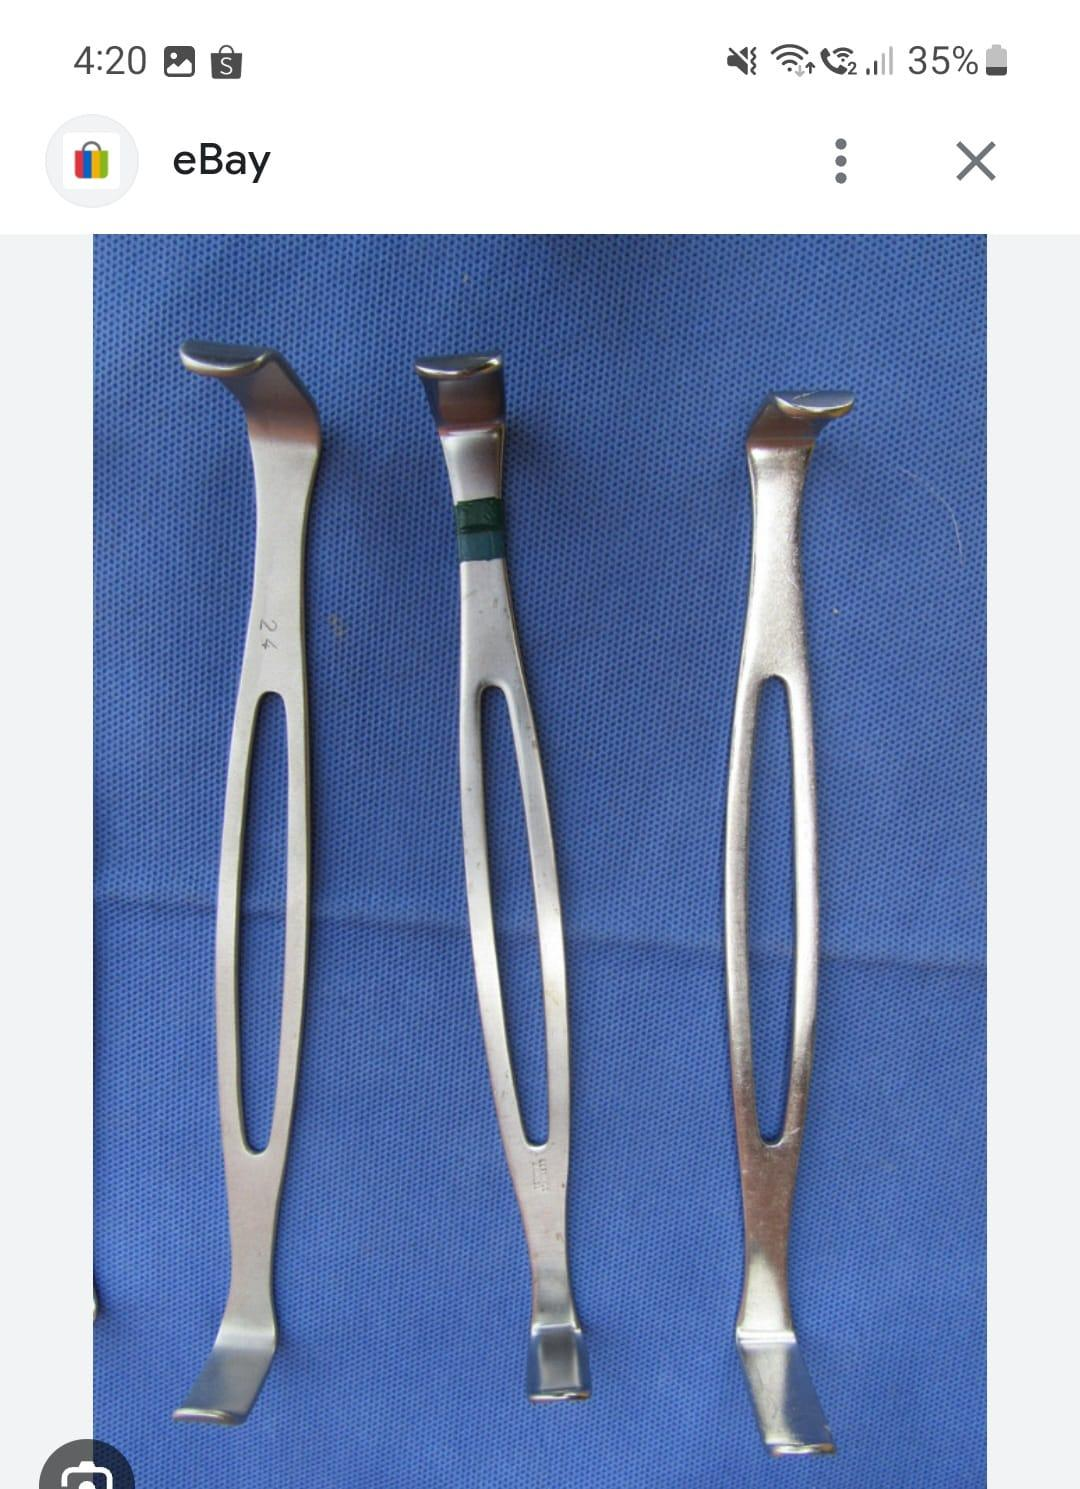Army Navy Retractor: (375, 325, 637, 1415), (703, 342, 900, 1488), (155, 314, 335, 1440)
